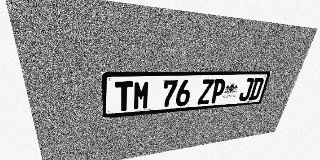6: (175, 80, 192, 107)
7: (160, 80, 178, 108)
D: (248, 78, 265, 100)
J: (238, 78, 255, 101)
M: (133, 81, 150, 110)
P: (209, 79, 227, 104)
T: (115, 81, 133, 112)
Z: (197, 79, 214, 105)
